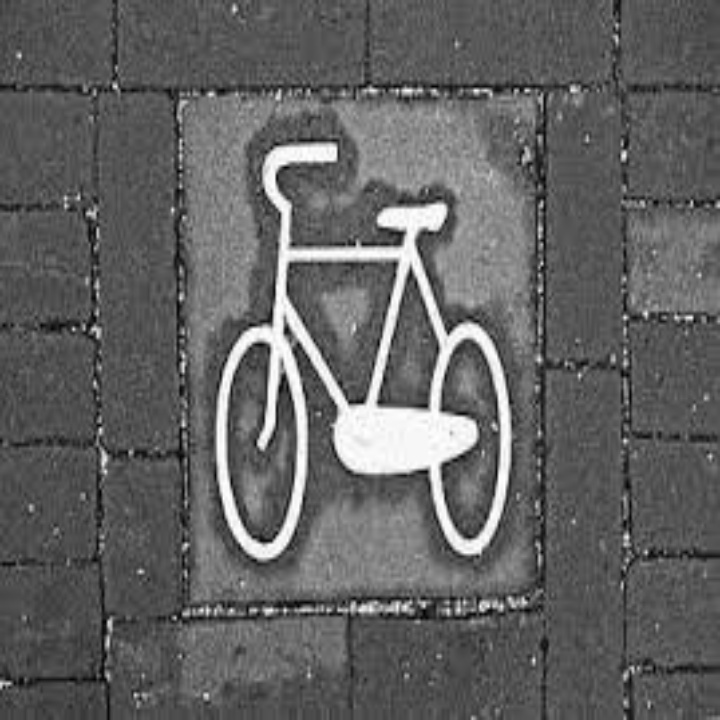bicycle: (132, 80, 556, 571)
